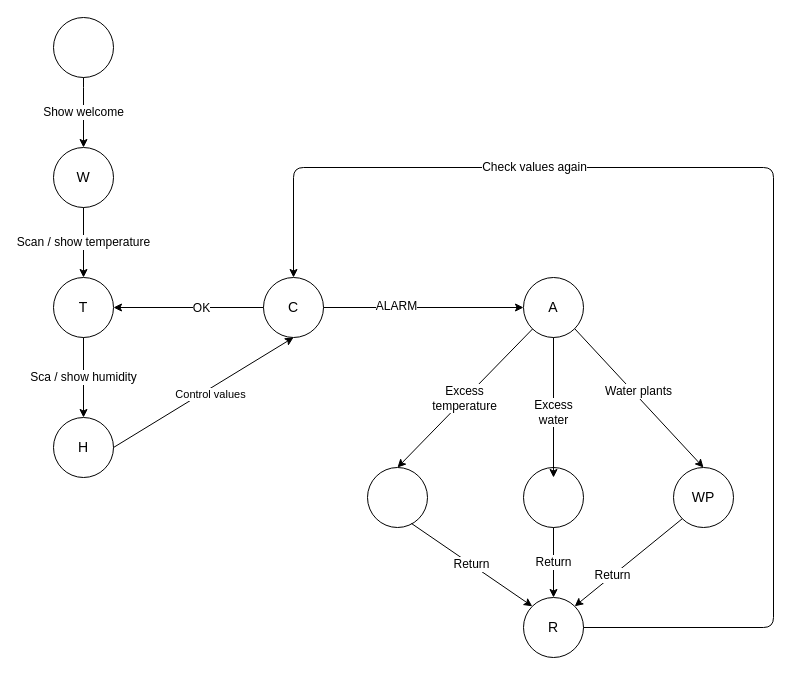
This 799x675 diagram has some shape labels left out. The shapes that lost their labels are listed below. From the top down, each one's centre as x and y in pixels, then its label:
At point 83,47: "Start".
At point 397,497: "ET".
At point 553,497: "EW".
